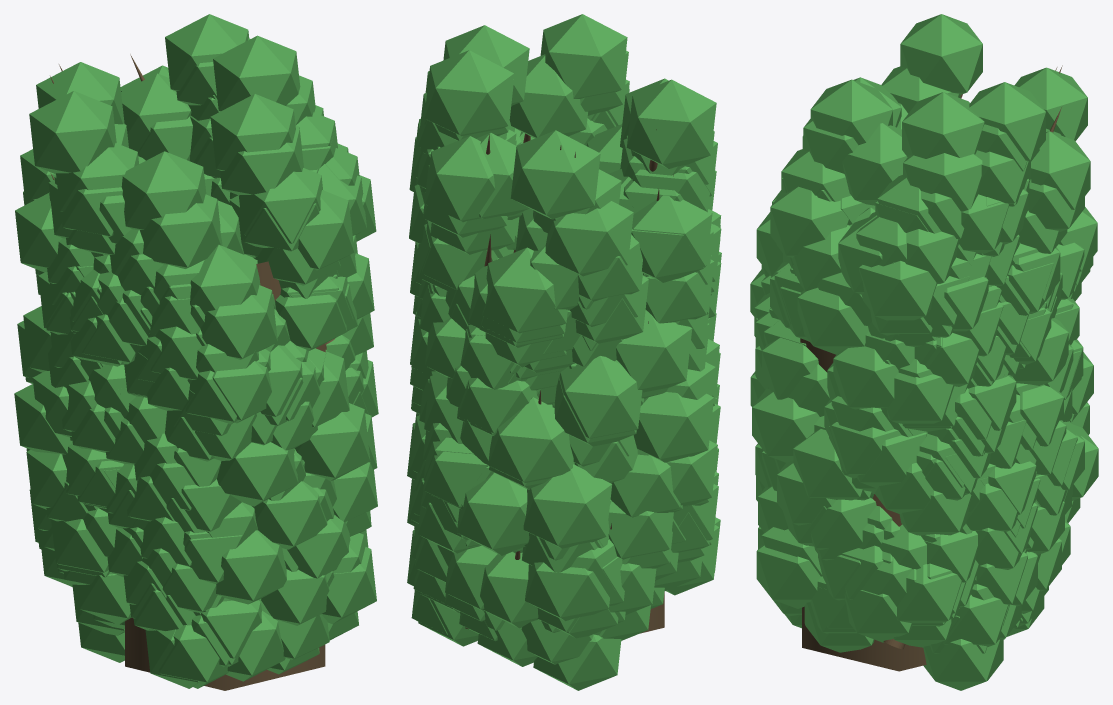
File: tree_var_798.glb
The picture shows the model from 3 angles, left to right: view 1: azimuth 30°, elevation 25°; view 2: azimuth 150°, elevation 25°; view 3: azimuth 270°, elevation 25°; orthographic projection. The views are drawn at different scales.
Parts seen in each view (by area): view 1: tree_var_798; view 2: tree_var_798; view 3: tree_var_798.
Part boxes in pixels (left/top/right/bottom): tree_var_798: left=14, top=14, right=378, bottom=690; tree_var_798: left=407, top=14, right=721, bottom=690; tree_var_798: left=750, top=14, right=1098, bottom=690.
Bounding box in the file's own units: 3.2 × 5.9 × 3.11.
